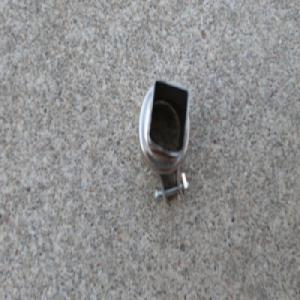MetalPart: (137, 78, 191, 215)
